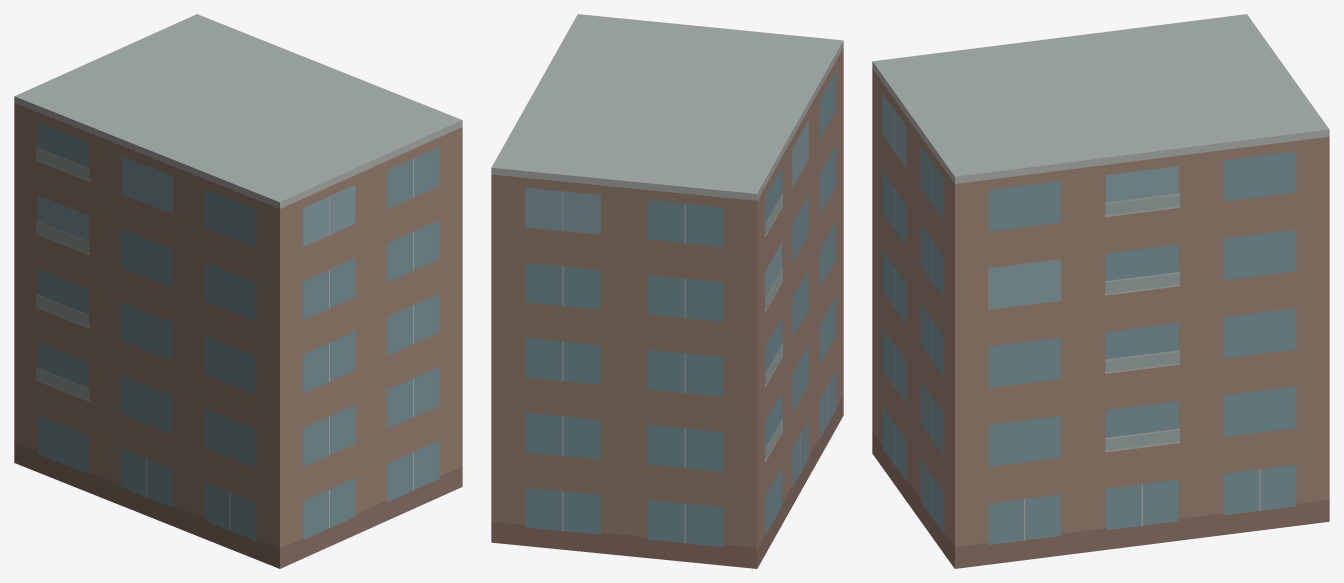
Rendered from survey-upis-32988190.glb.
3 views of the same model, side by side, from view 1: azimuth 30°, elevation 25°; view 2: azimuth 150°, elevation 25°; view 3: azimuth 270°, elevation 25° (orthographic). The views are drawn at different scales.
Parts seen in each view (by area): view 1: survey-upis-32988190.tmp; view 2: survey-upis-32988190.tmp; view 3: survey-upis-32988190.tmp.
Boxes of the visible parts, box(x1,y1,x2,y2) form: survey-upis-32988190.tmp: box(14, 14, 462, 568); survey-upis-32988190.tmp: box(491, 14, 843, 568); survey-upis-32988190.tmp: box(872, 14, 1329, 568).
Bounding box in the file's own units: 11.94 × 13.4 × 14.17.
